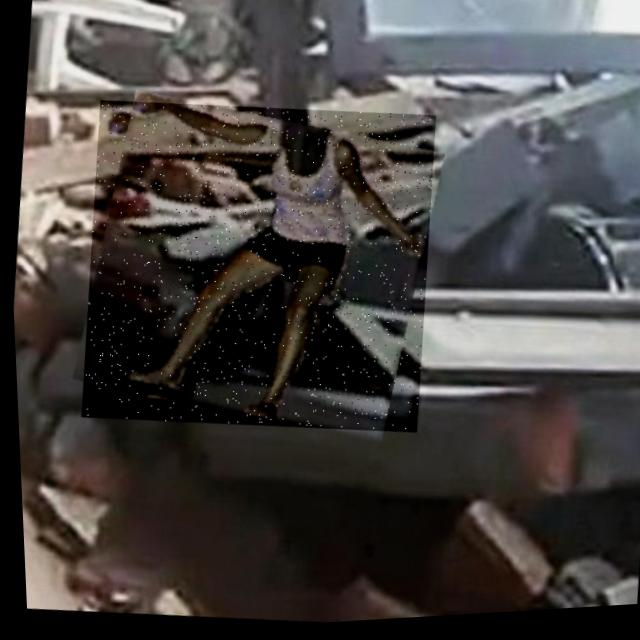Person in Rubble: (66, 86, 445, 453)
